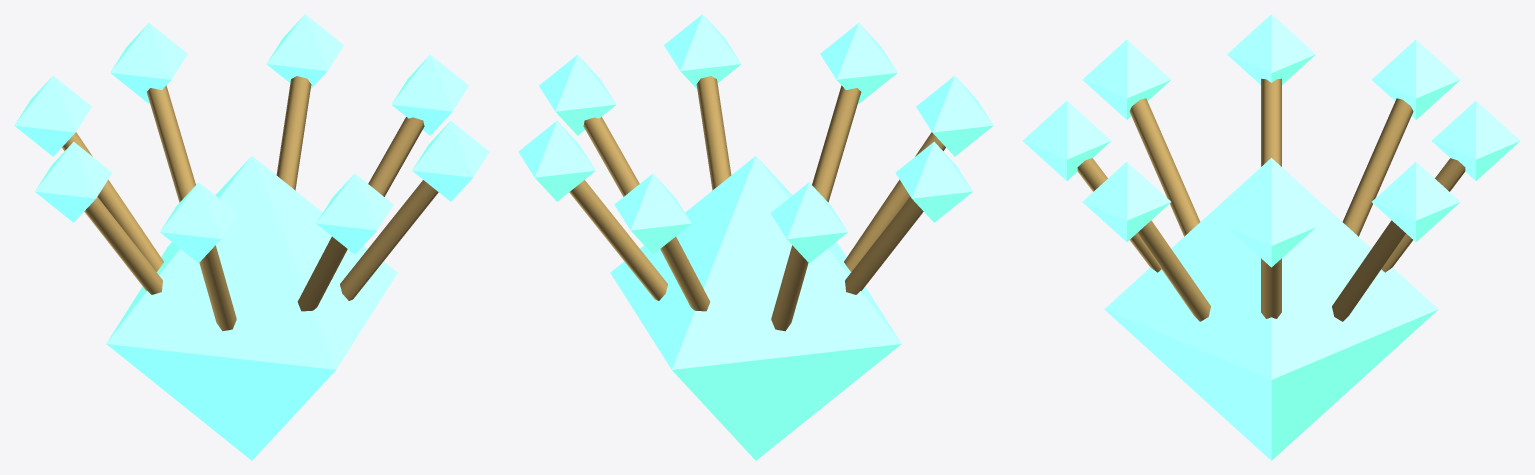
Rendered from fractal.glb.
3 renders of one model, left to right at view 1: azimuth 30°, elevation 25°; view 2: azimuth 150°, elevation 25°; view 3: azimuth 270°, elevation 25°, orthographic.
Visible parts, largest first — view 1: body; view 2: body; view 3: body.
Boxes of the visible parts, x1,y1,x2,y2 form: body: (14,14,489,460); body: (518,14,993,460); body: (1022,14,1520,460).
Size of the model in its own units: 1.34 by 1.07 by 1.34.
